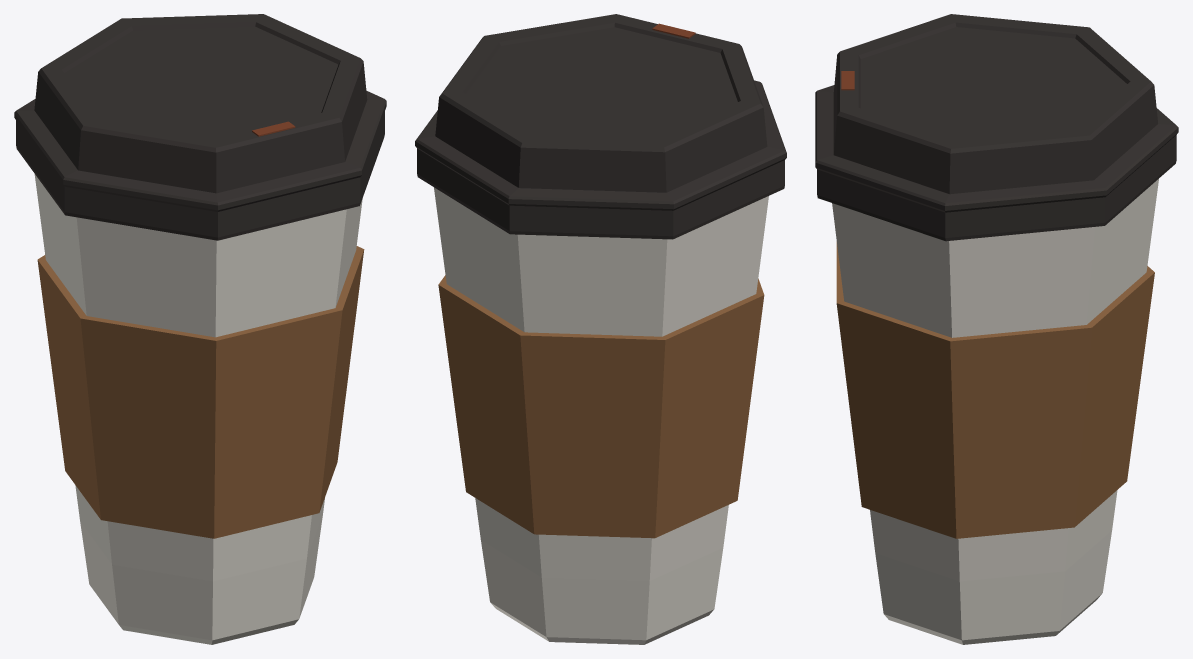
The model's file is item-coffee.glb.
3 views of the same model, side by side, from view 1: azimuth 30°, elevation 25°; view 2: azimuth 150°, elevation 25°; view 3: azimuth 270°, elevation 25° (orthographic).
Visible parts, largest first — view 1: coffee; view 2: coffee; view 3: coffee.
Part boxes in pixels (x1,y1,x2,y2): coffee: (14,14,386,644); coffee: (415,14,786,644); coffee: (815,14,1178,644).
Size of the model in its own units: 0.0969 by 0.1492 by 0.0945.
